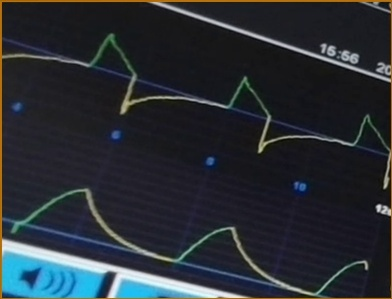Normal Flow: (3, 29, 392, 189)
Normal Volume: (10, 183, 370, 297)
